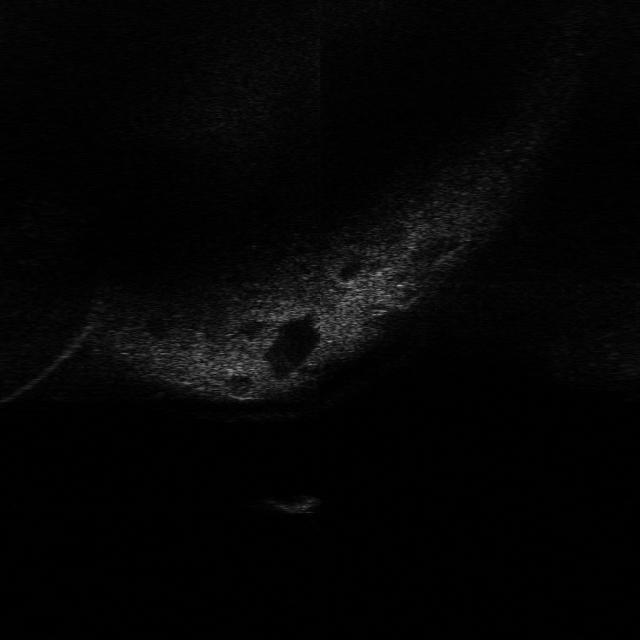cube: (260, 492, 324, 517)
